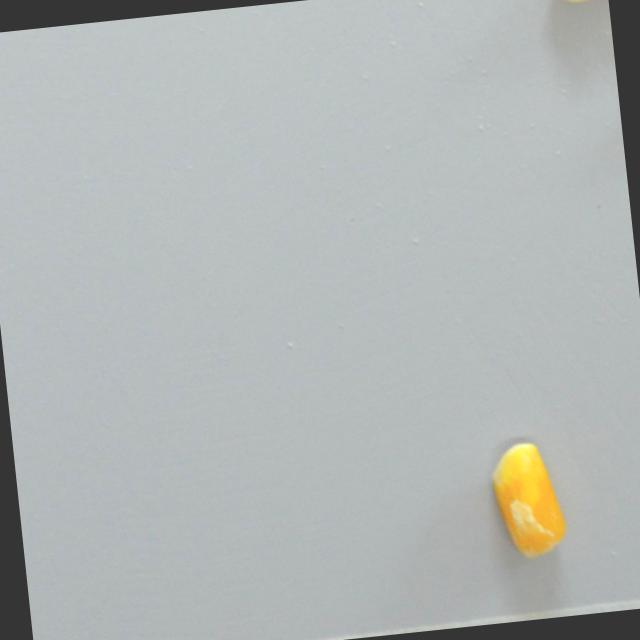pelicula: (462, 442, 599, 549), (549, 0, 610, 22)
